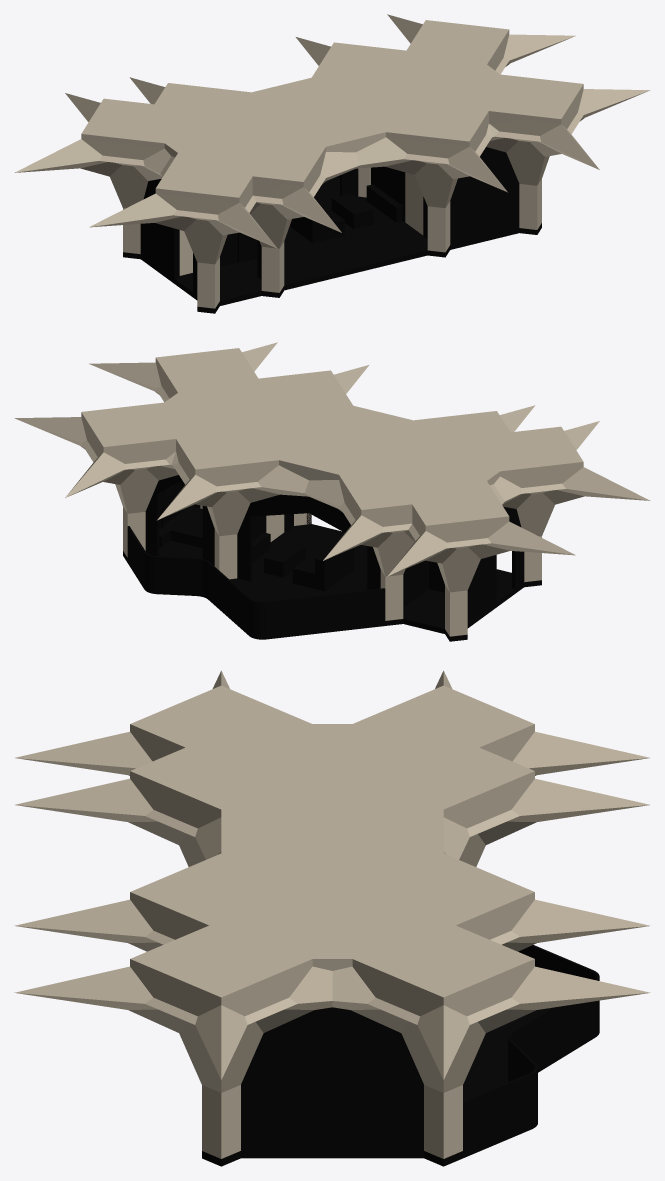
3 renders of one model, top to bottom at view 1: azimuth 30°, elevation 25°; view 2: azimuth 150°, elevation 25°; view 3: azimuth 270°, elevation 25°, orthographic. The views are drawn at different scales.
Parts seen in each view (by area): view 1: santech, object 2, object 51, object 59, object 57, object 24, object 5, object 25, object 30, object 9, object 8, object 21 (+1 smaller); view 2: santech, object 3, object 2, object 21, object 4, object 59, object 14, object 25, object 24, object 28, object 58, object 26 (+1 smaller); view 3: santech, object 54, object 3, object 4, object 2.
Boxes of the visible parts, x1,y1,x2,y2 form: santech: (14, 14, 650, 308); object 2: (123, 196, 541, 313); object 51: (450, 147, 519, 244); object 59: (140, 179, 197, 295); object 57: (371, 166, 427, 238); object 24: (331, 193, 373, 229); object 5: (405, 172, 423, 235); object 25: (289, 198, 344, 243); object 30: (366, 184, 402, 222); object 9: (177, 229, 237, 276); object 8: (179, 230, 192, 275); object 21: (340, 168, 358, 196); santech: (14, 342, 650, 636); object 3: (127, 526, 385, 634); object 2: (123, 524, 541, 641); object 21: (237, 494, 380, 589); object 4: (127, 558, 385, 639); object 59: (467, 507, 524, 623); object 14: (145, 475, 214, 565); object 25: (292, 546, 354, 591); object 24: (264, 541, 305, 577); object 28: (163, 507, 202, 547); object 58: (403, 560, 428, 607); object 26: (315, 542, 354, 576); santech: (14, 670, 650, 1158); object 54: (241, 1007, 423, 1150); object 3: (463, 945, 599, 1150); object 4: (463, 1008, 599, 1158); object 2: (202, 1151, 462, 1166).
Bounding box in the file's own units: 17.46 × 3.96 × 11.46.
